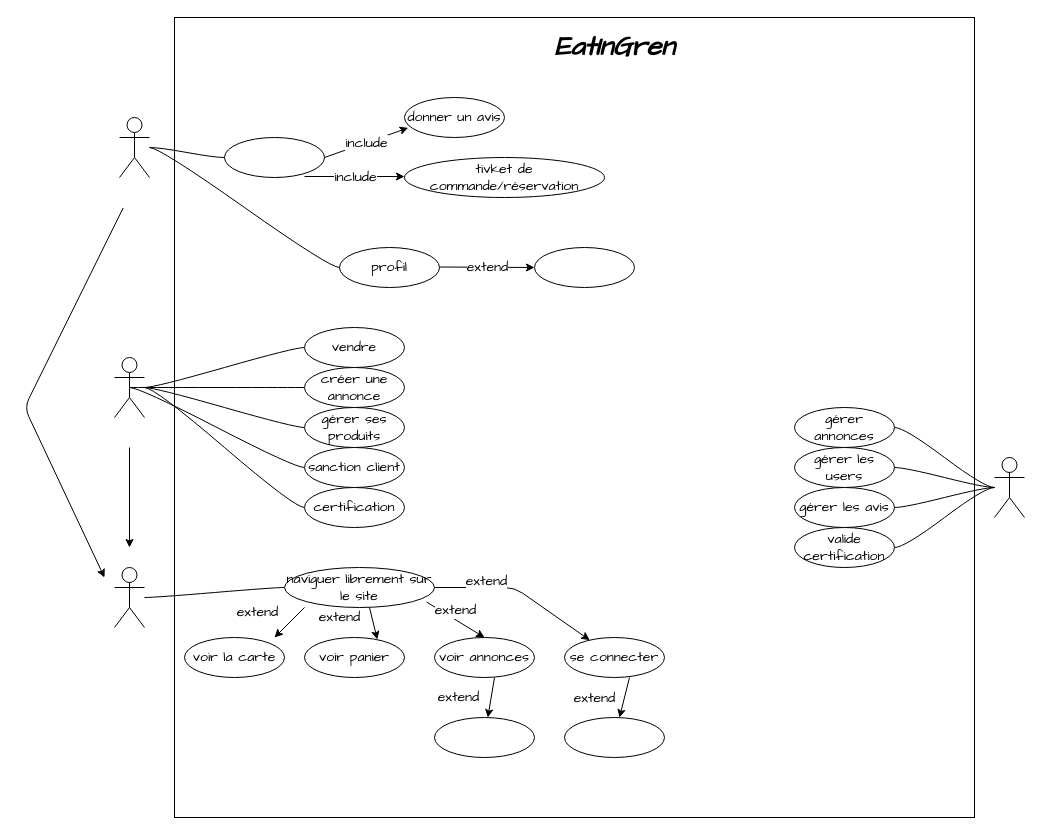
This 1044x835 diagram has some shape labels left out. Here are the shapes that lost their labels. From the top down, the box of each, then its label:
(118, 116, 150, 178): client
(224, 136, 324, 178): acheter
(534, 246, 634, 288): modifier
(114, 356, 144, 418): agriculteur
(994, 456, 1024, 518): admin
(114, 566, 144, 628): visiteur
(434, 716, 534, 758): ajouter au panier
(564, 716, 664, 758): s'inscrire
